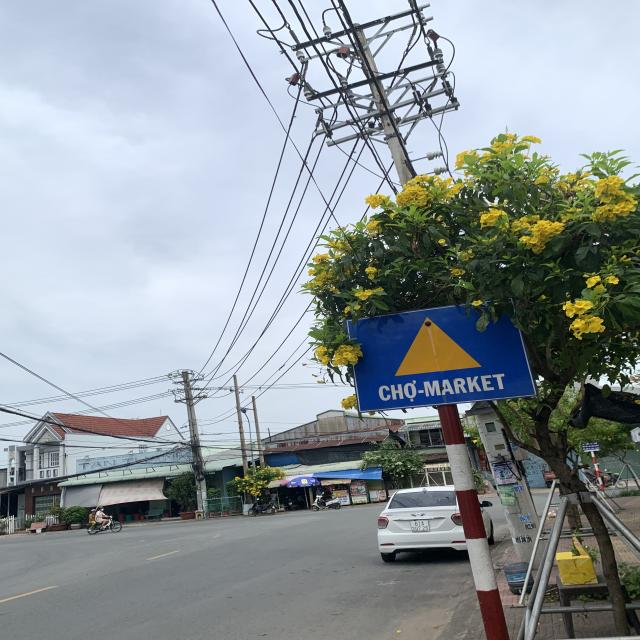Cho_Quay_Xe: (351, 302, 537, 411)
